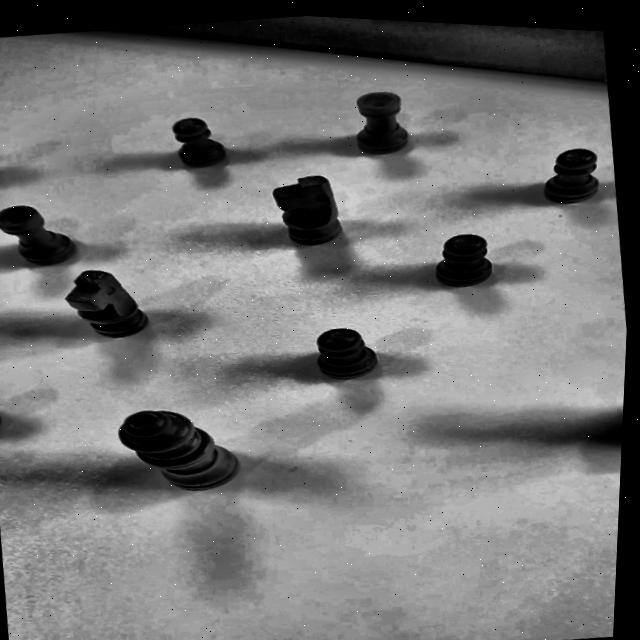black-knight: (47, 257, 166, 353), (263, 167, 364, 260)
black-pawn: (300, 315, 398, 393), (528, 137, 620, 217), (424, 222, 517, 300), (162, 108, 254, 186)
black-queen: (103, 393, 258, 513)
black-rook: (0, 191, 96, 274), (338, 77, 426, 166)
